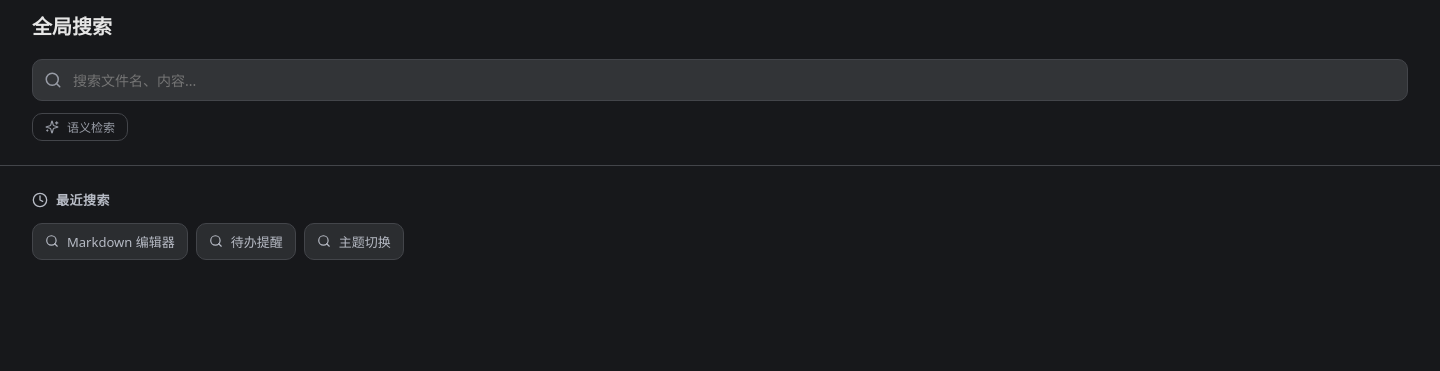
Scenario: SearchView › 有文件因体积过大未被索引时给出提示
Step 1. Type "关键词" into the field with test id "search-input" → (720, 80), box [32,59,1408,101]
Wait 300 ms
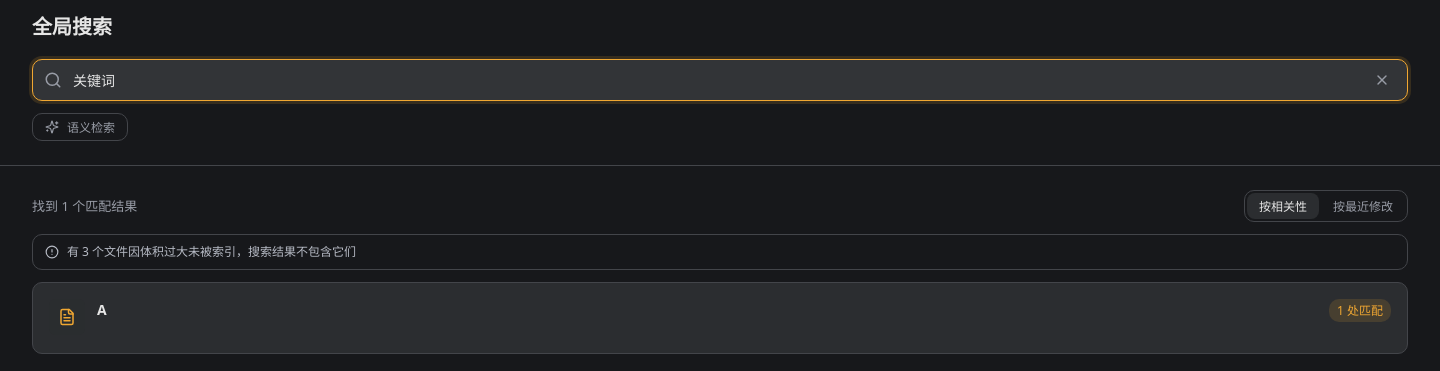
Result: the element with test id "index-warning" is shown at [32,234,1408,270]
Result: the element with test id "index-warning" shows "3" at [67,243,356,260]
